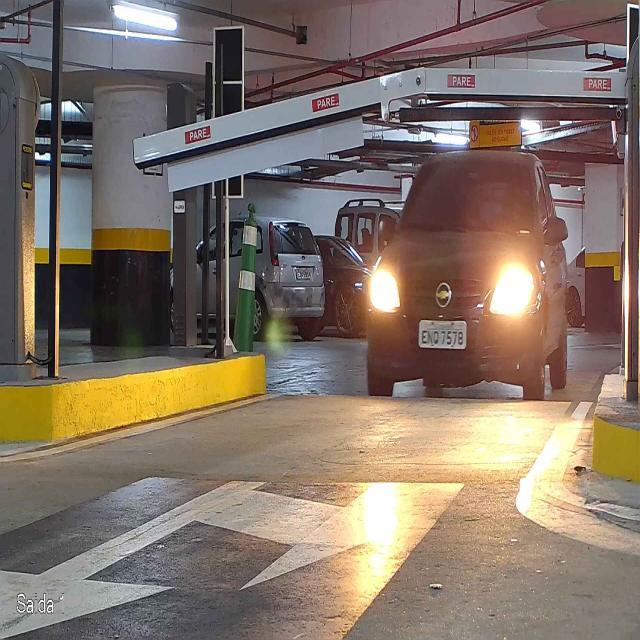old_plate: (416, 317, 472, 352)
